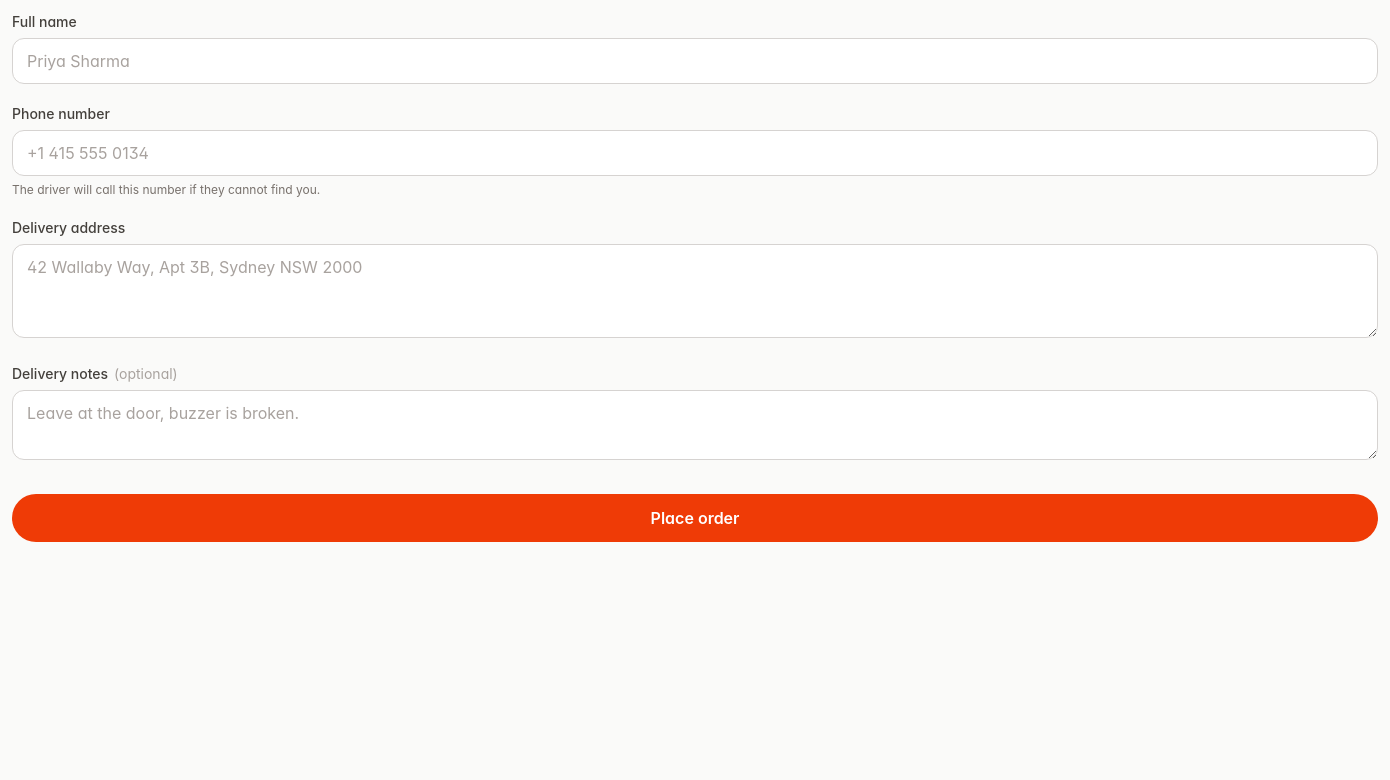
Test: submission › shows a message for every missing field at once
Click the button "Place order" at (695, 518), box [12,494,1378,542]
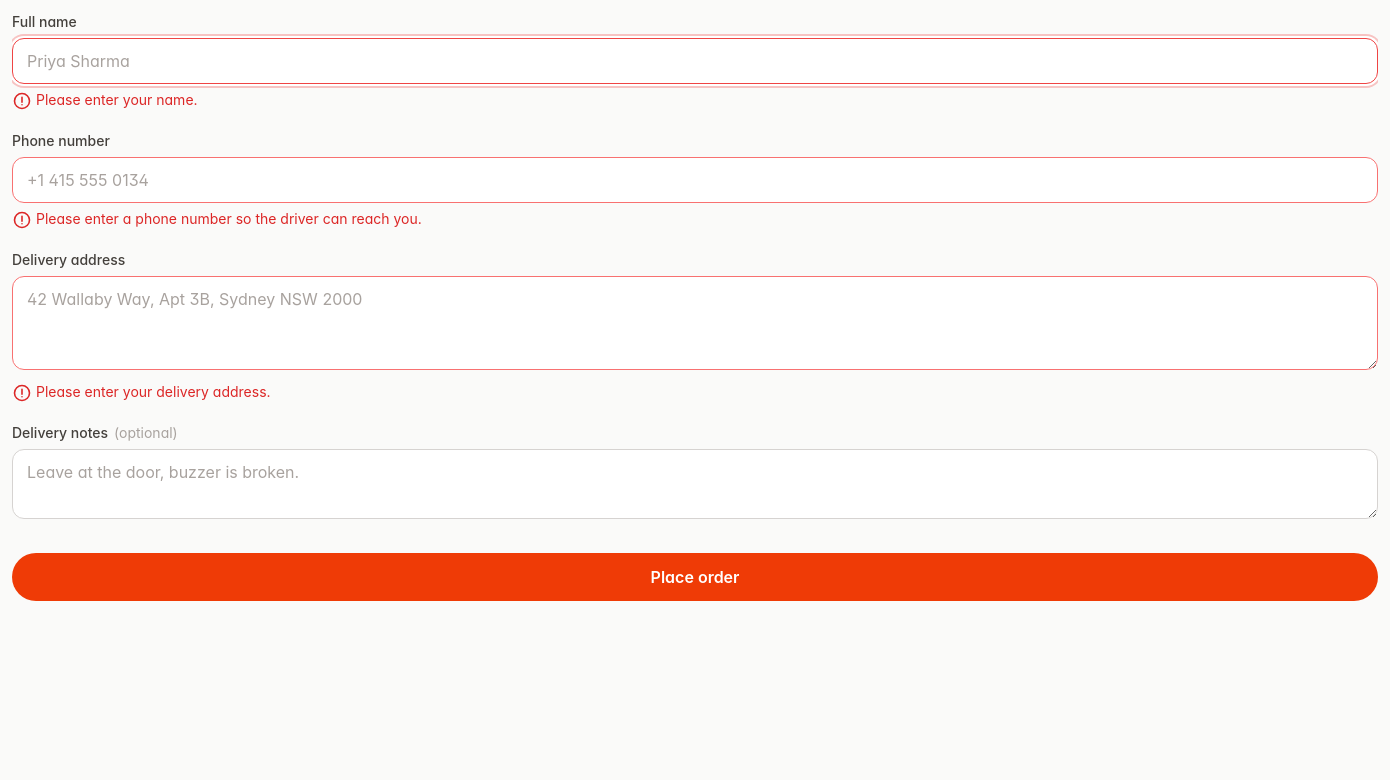
Expected: the text "Please enter your name." is shown, [12,91,198,111]
Expected: the text "Please enter a phone number so the driver can reach you." is shown, [12,210,422,230]
Expected: the text "Please enter your delivery address." is shown, [12,383,271,403]
